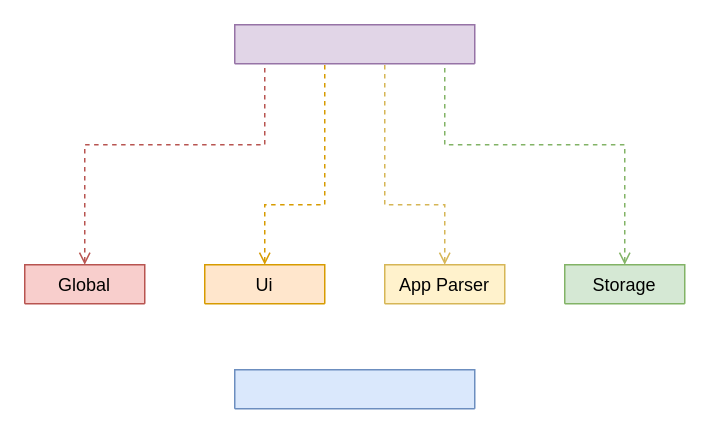
Image size: 710x434. Some labels were removed from this diagram. The centre of each missing label's shape, as x and y in pixels:
Apps: pixel 354 388
PlanNUS: pixel 354 43
